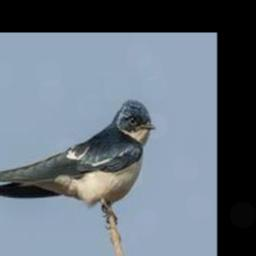Swallow: (0, 99, 155, 217)
